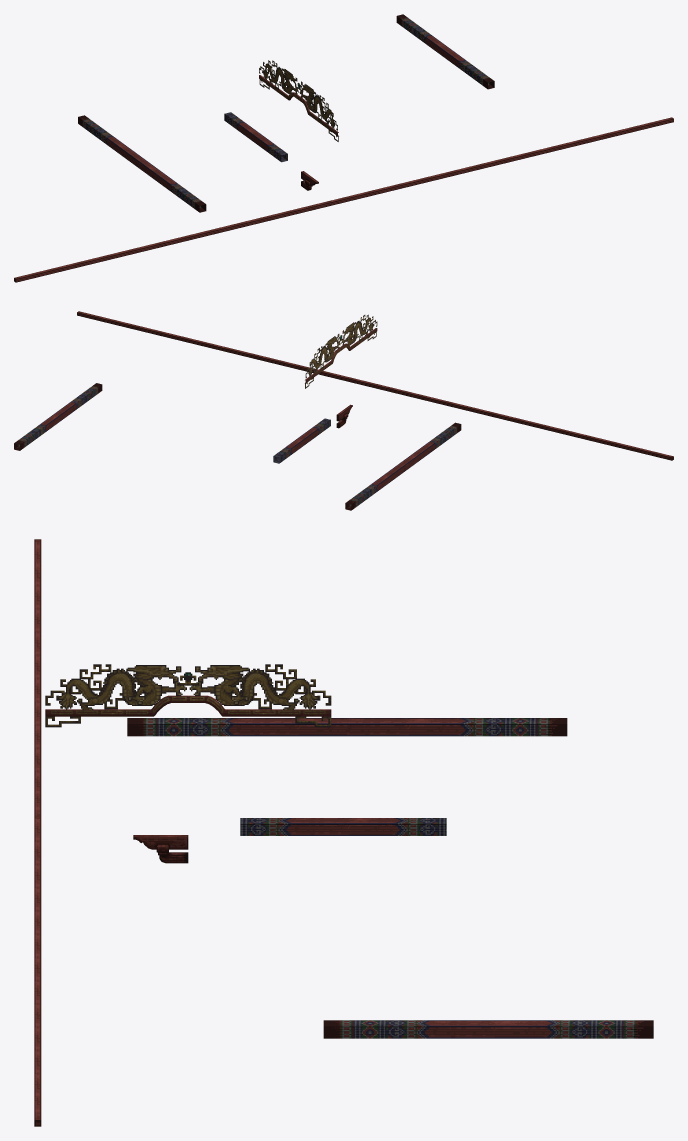
File: EnvMdrMD_Desert_Castle_A_Beam_B.FBX
3 views of the same model, one above another, from view 1: azimuth 30°, elevation 25°; view 2: azimuth 150°, elevation 25°; view 3: azimuth 270°, elevation 25° (orthographic). The views are drawn at different scales.
Visible parts, largest first — view 1: EnvMdrMD_Desert_Castle_A_Beam_B, EnvMdrMD_Desert_Castle_A_Beam_E, EnvMdrMD_Desert_Castle_A_Beam_C_Long, EnvMdrMD_Desert_Castle_A_Beam_C_Middle, EnvMdrMD_Desert_Castle_A_Beam_C_Short; view 2: EnvMdrMD_Desert_Castle_A_Beam_B, EnvMdrMD_Desert_Castle_A_Beam_E, EnvMdrMD_Desert_Castle_A_Beam_C_Long, EnvMdrMD_Desert_Castle_A_Beam_C_Middle, EnvMdrMD_Desert_Castle_A_Beam_C_Short; view 3: EnvMdrMD_Desert_Castle_A_Beam_E, EnvMdrMD_Desert_Castle_A_Beam_C_Long, EnvMdrMD_Desert_Castle_A_Beam_C_Middle, EnvMdrMD_Desert_Castle_A_Beam_B, EnvMdrMD_Desert_Castle_A_Beam_C_Short, EnvMdrMD_Desert_Castle_A_Beam_D.
Part boxes in pixels (box(x1,y1,x2,y2)): EnvMdrMD_Desert_Castle_A_Beam_B: box(14, 117, 673, 282); EnvMdrMD_Desert_Castle_A_Beam_E: box(259, 60, 338, 141); EnvMdrMD_Desert_Castle_A_Beam_C_Long: box(78, 115, 206, 212); EnvMdrMD_Desert_Castle_A_Beam_C_Middle: box(396, 14, 494, 89); EnvMdrMD_Desert_Castle_A_Beam_C_Short: box(224, 112, 287, 162); EnvMdrMD_Desert_Castle_A_Beam_B: box(77, 311, 673, 460); EnvMdrMD_Desert_Castle_A_Beam_E: box(305, 314, 377, 388); EnvMdrMD_Desert_Castle_A_Beam_C_Long: box(345, 422, 461, 510); EnvMdrMD_Desert_Castle_A_Beam_C_Middle: box(14, 383, 102, 450); EnvMdrMD_Desert_Castle_A_Beam_C_Short: box(273, 418, 330, 463); EnvMdrMD_Desert_Castle_A_Beam_E: box(45, 664, 331, 727); EnvMdrMD_Desert_Castle_A_Beam_C_Long: box(127, 718, 567, 736); EnvMdrMD_Desert_Castle_A_Beam_C_Middle: box(323, 1020, 653, 1038); EnvMdrMD_Desert_Castle_A_Beam_B: box(34, 539, 41, 1126); EnvMdrMD_Desert_Castle_A_Beam_C_Short: box(240, 818, 446, 835); EnvMdrMD_Desert_Castle_A_Beam_D: box(133, 835, 188, 863).
Size of the model in its own units: 5000 by 780 by 2252.
